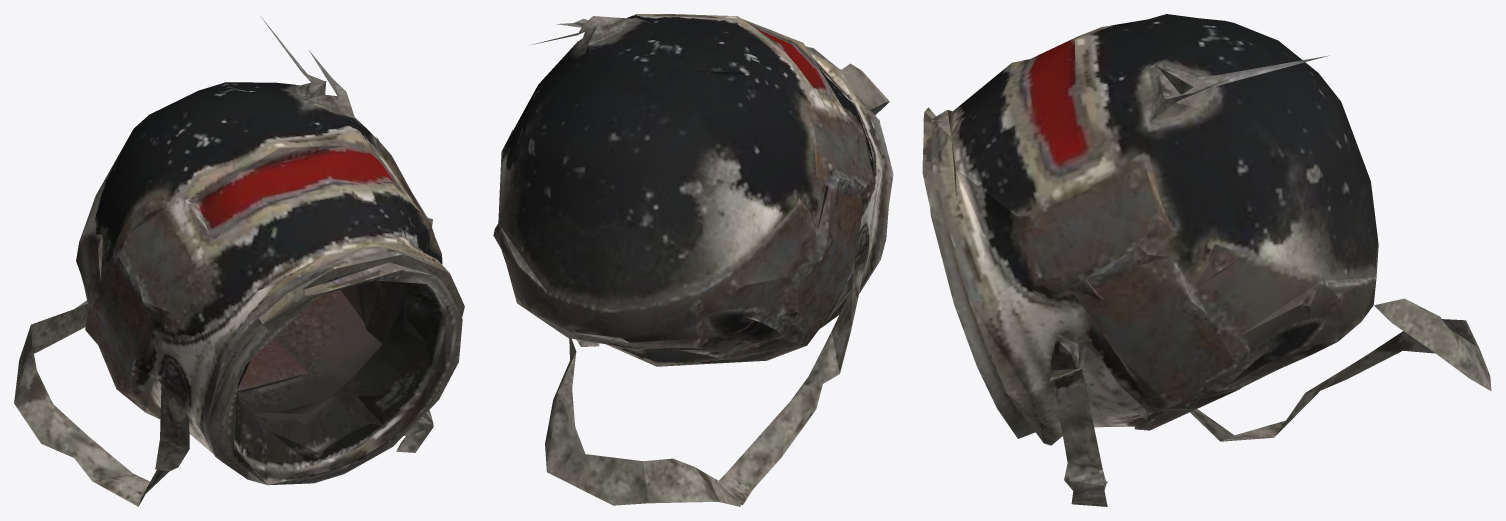
Rendered from item.lieutenant_helmet.glb.
3 renders of one model, left to right at view 1: azimuth 30°, elevation 25°; view 2: azimuth 150°, elevation 25°; view 3: azimuth 270°, elevation 25°, orthographic. The views are drawn at different scales.
Parts seen in each view (by area): view 1: body; view 2: body; view 3: body.
Part boxes in pixels (left/top/right/bottom): body: left=14, top=16, right=464, bottom=506; body: left=493, top=14, right=893, bottom=506; body: left=922, top=14, right=1491, bottom=506.
Bounding box in the file's own units: 0.2807 × 0.3668 × 0.3932.
Materials: 1 (1 with a texture image).
